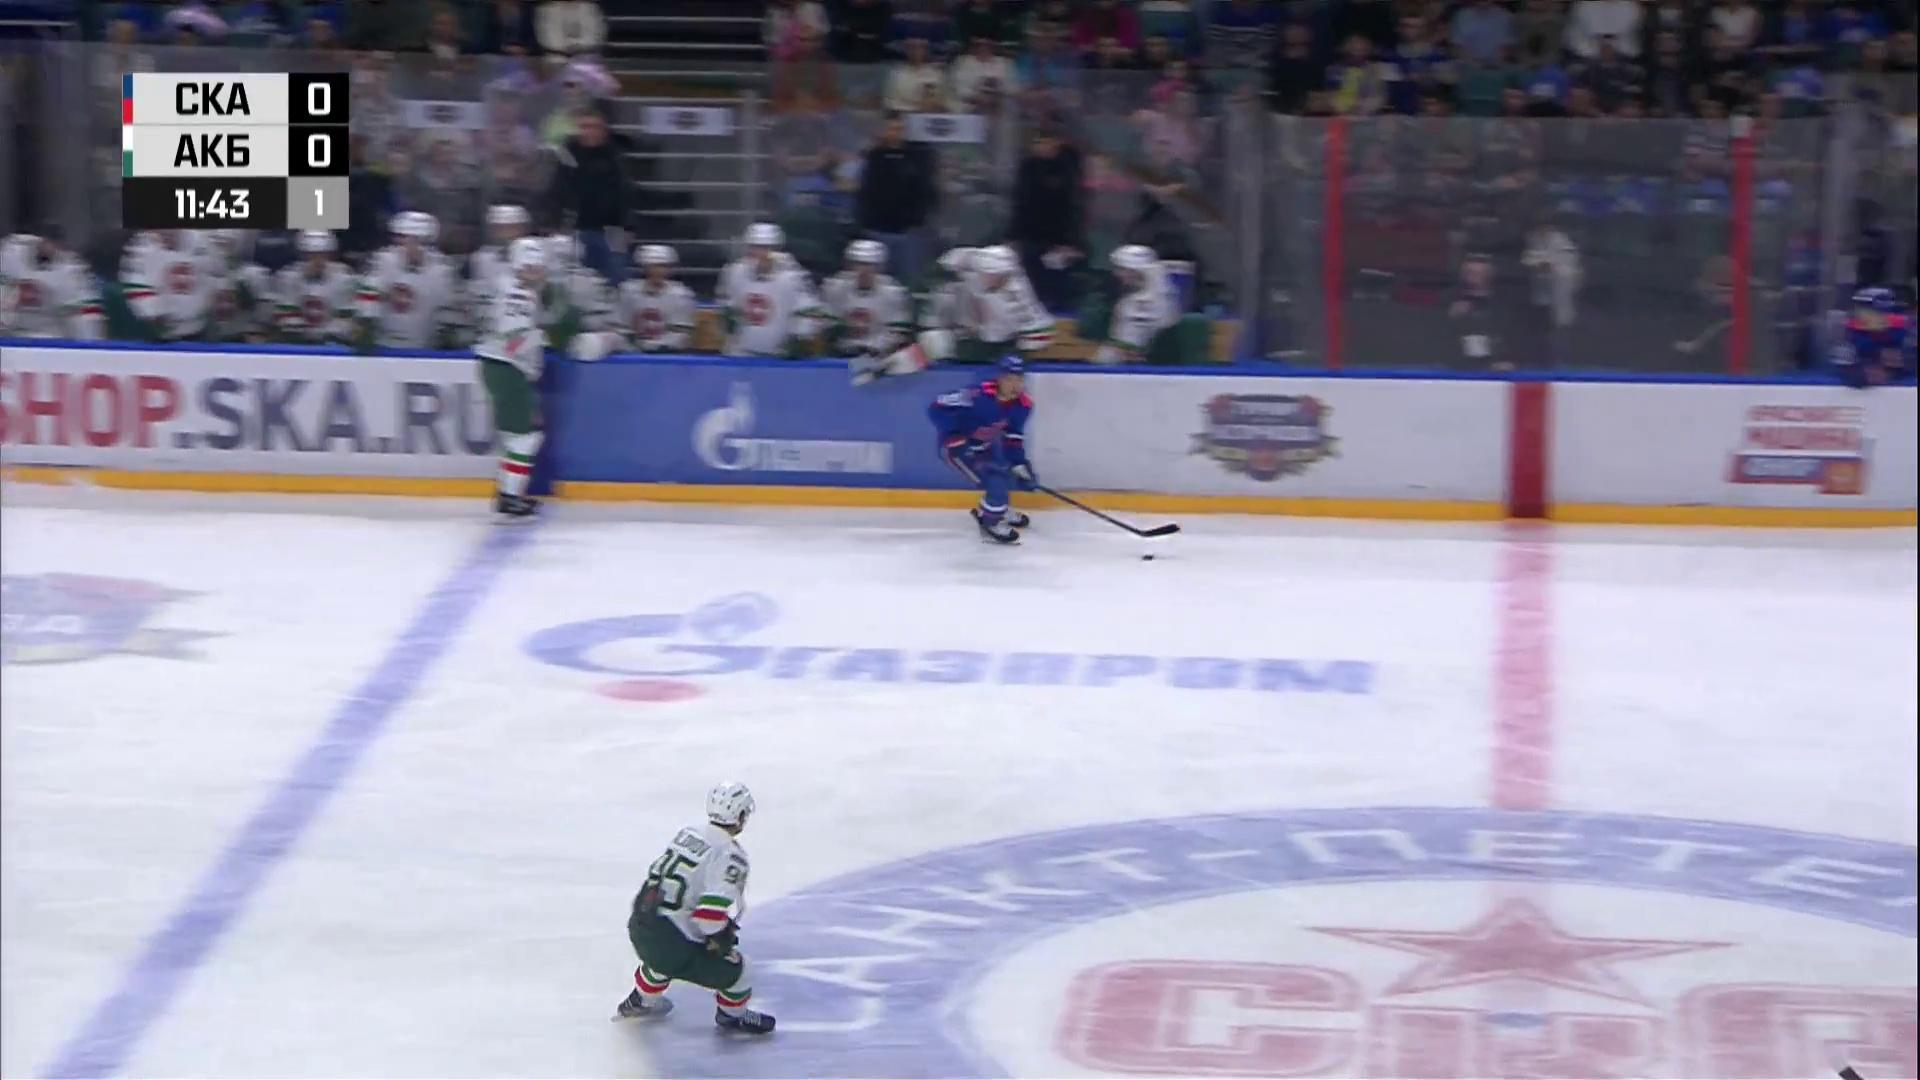ball: (1142, 554, 1155, 560)
